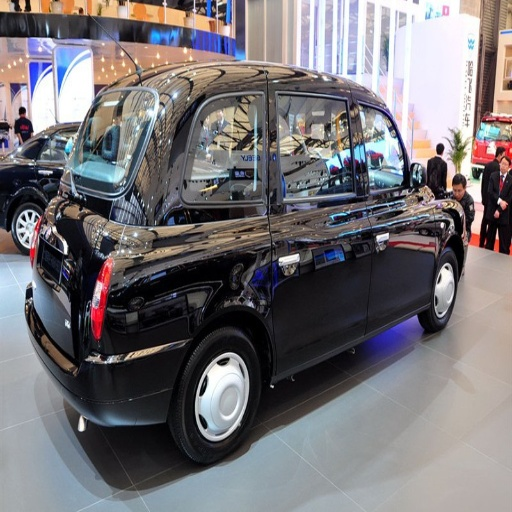back_bumper: (42, 310, 188, 430)
back_right_door: (273, 91, 372, 359)
trunk: (200, 221, 267, 293), (404, 206, 457, 279)
